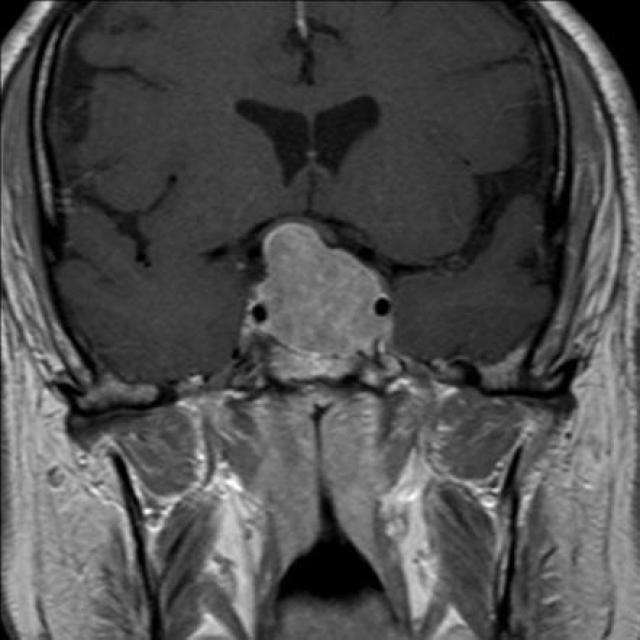brain_tumor: (237, 223, 403, 391)
